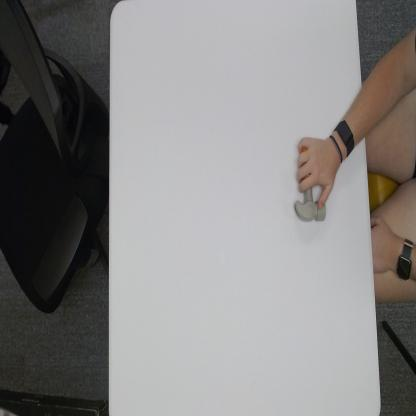Arm: (350, 78, 370, 145)
Hammer: (294, 142, 326, 222)
Hand: (298, 134, 337, 208)
